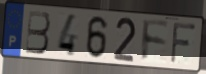2: (113, 17, 137, 64)
4: (55, 12, 79, 58)
6: (84, 15, 110, 60)
B: (25, 10, 52, 56)
F: (141, 18, 170, 64), (169, 21, 198, 65)
